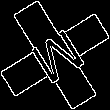M_SE: (22, 21, 88, 89)
